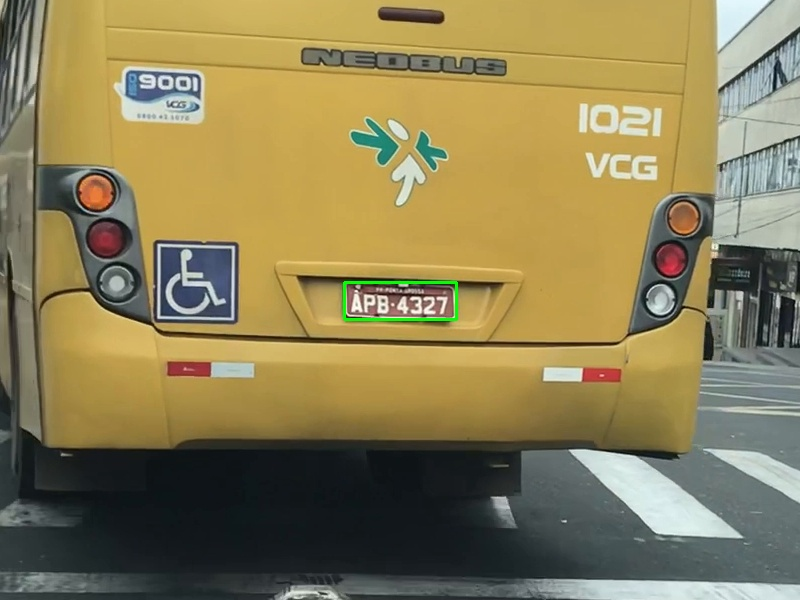placa: (344, 282, 456, 319)
